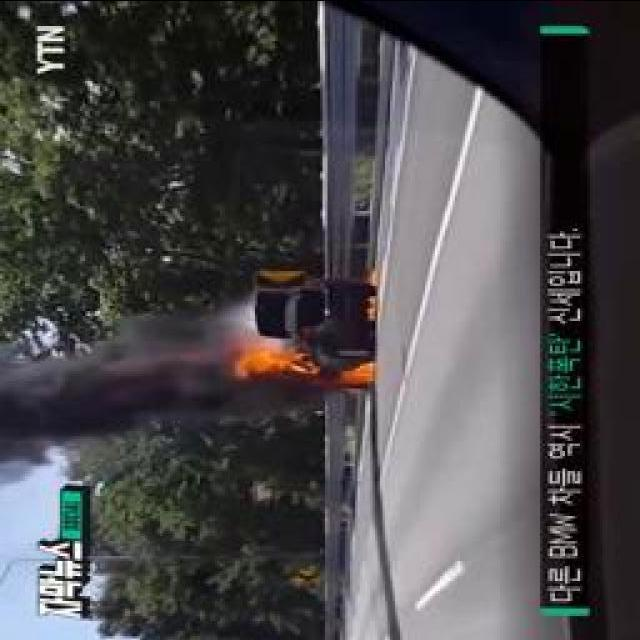Fire: (255, 342, 378, 386)
